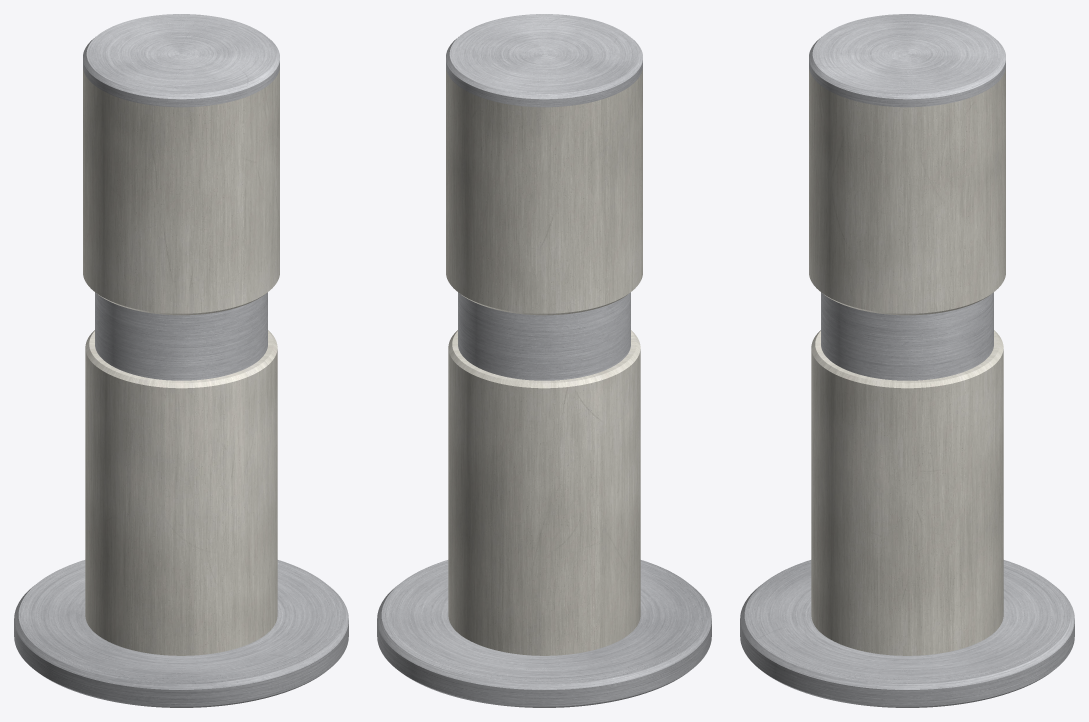
Rendered from rook-white-hd.glb.
The picture shows the model from 3 angles, left to right: view 1: azimuth 30°, elevation 25°; view 2: azimuth 150°, elevation 25°; view 3: azimuth 270°, elevation 25°; orthographic projection.
Visible parts, largest first — view 1: ferro-orbis_rook_white; view 2: ferro-orbis_rook_white; view 3: ferro-orbis_rook_white.
Part boxes in pixels (x1,y1,x2,y2): ferro-orbis_rook_white: (14,14,348,707); ferro-orbis_rook_white: (377,14,711,707); ferro-orbis_rook_white: (740,14,1074,707).
Bounding box in the file's own units: 0.514 × 0.99 × 0.514.
3 materials, 3 textured.
